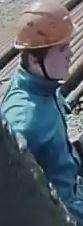helmet: (13, 1, 76, 56)
vest: (0, 79, 83, 226)
